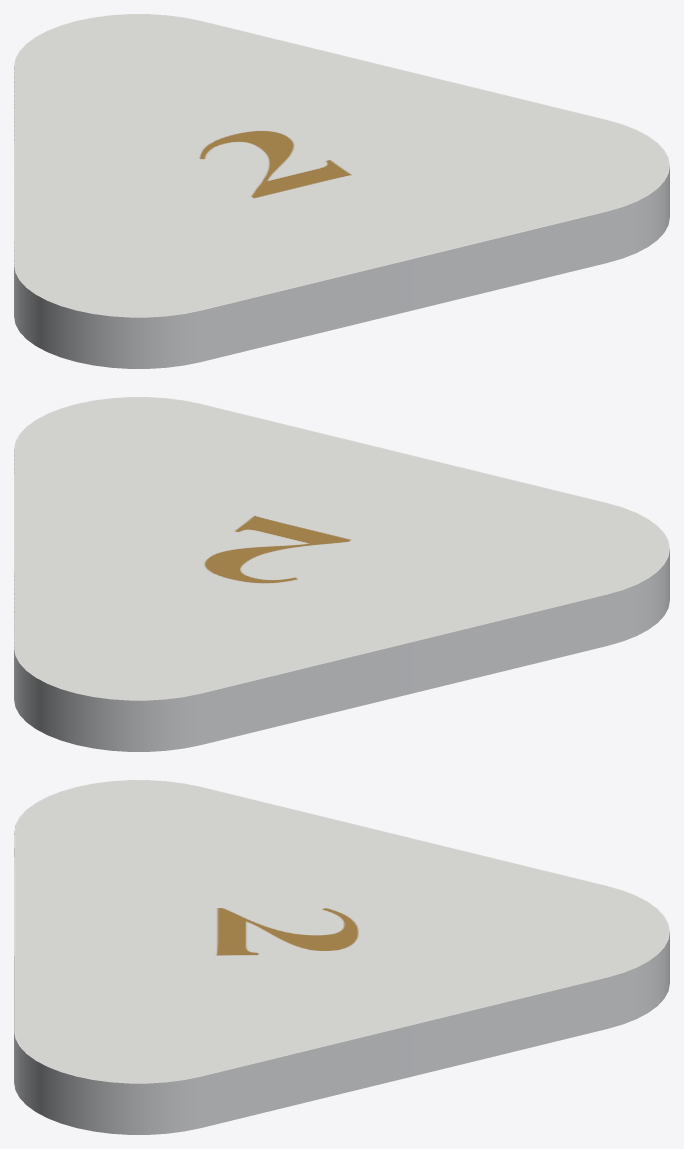
Rendered from tri_2.glb.
3 renders of one model, top to bottom at view 1: azimuth 30°, elevation 25°; view 2: azimuth 150°, elevation 25°; view 3: azimuth 270°, elevation 25°, orthographic.
Visible parts, largest first — view 1: tri_2; view 2: tri_2; view 3: tri_2.
Part boxes in pixels (bbox=[...]): tri_2: bbox=[14, 14, 669, 368]; tri_2: bbox=[14, 397, 669, 751]; tri_2: bbox=[14, 780, 669, 1134].
Size of the model in its own units: 0.0304 by 0.0024 by 0.0277.
3 materials, 2 textured.
